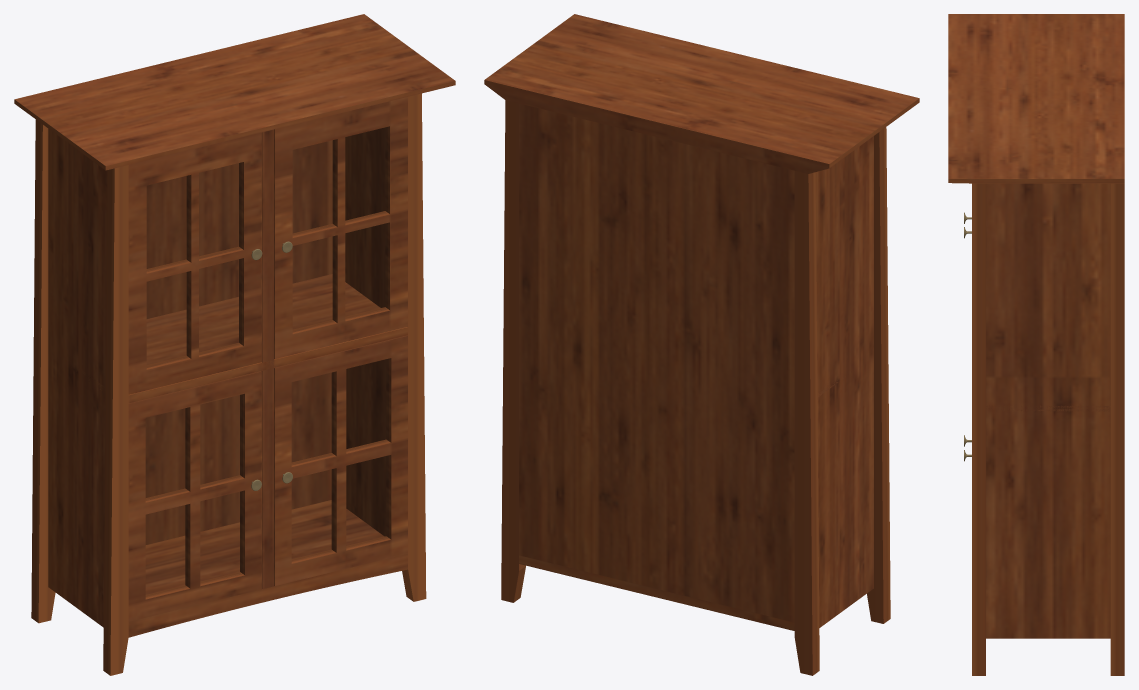
File: Bookcase 2.fbx
3 views of the same model, side by side, from view 1: azimuth 30°, elevation 25°; view 2: azimuth 150°, elevation 25°; view 3: azimuth 270°, elevation 25° (orthographic). The views are drawn at different scales.
Parts seen in each view (by area): view 1: Solid_Addition, Extrude_7, Extrude_2, Solid_Subtraction_2, Solid_Subtraction, Solid_Subtraction_4, Solid_Subtraction_3, Extrude_5, Extrude_3, Extrude_6, Extrude, Extrude_8 (+20 smaller); view 2: Extrude_7, Solid_Addition, Extrude_2, Extrude, Extrude_4, Extrude_3, Extrude_8; view 3: Extrude_5, Solid_Addition, Extrude_4, Extrude_6, Extrude_28.
Boxes of the visible parts, <box> form: Solid_Addition: <box>14,14,455,170</box>; Extrude_7: <box>145,140,332,544</box>; Extrude_2: <box>48,129,107,627</box>; Solid_Subtraction_2: <box>274,97,407,358</box>; Solid_Subtraction: <box>128,132,261,394</box>; Solid_Subtraction_4: <box>274,335,407,585</box>; Solid_Subtraction_3: <box>128,371,261,621</box>; Extrude_5: <box>345,127,386,536</box>; Extrude_3: <box>103,165,128,675</box>; Extrude_6: <box>402,93,426,601</box>; Extrude: <box>31,119,55,623</box>; Extrude_8: <box>145,500,384,594</box>; Extrude_7: <box>519,103,794,622</box>; Solid_Addition: <box>484,14,919,173</box>; Extrude_2: <box>815,136,873,627</box>; Extrude: <box>794,171,819,675</box>; Extrude_4: <box>501,100,525,602</box>; Extrude_3: <box>867,127,890,623</box>; Extrude_8: <box>519,555,794,630</box>; Extrude_5: <box>986,183,1110,638</box>; Solid_Addition: <box>948,14,1124,183</box>; Extrude_4: <box>1110,183,1124,675</box>; Extrude_6: <box>972,183,985,675</box>; Extrude_28: <box>986,405,1110,411</box>.
Bounding box in the file's own units: 1067 × 1524 × 483.
Materials: 3 (1 with a texture image).
